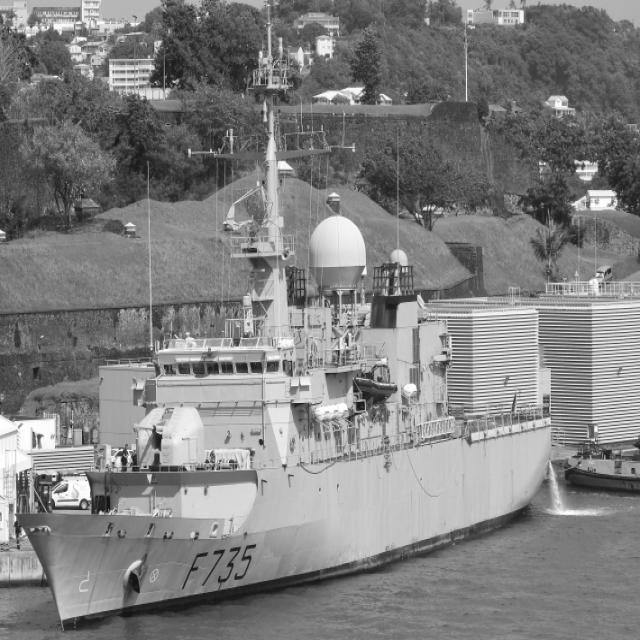Fragata: (11, 1, 558, 640)
